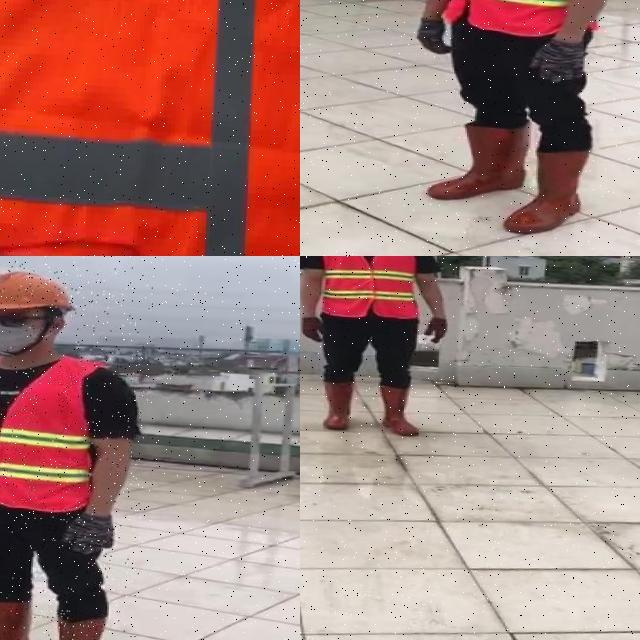boots: (426, 121, 532, 206), (503, 146, 589, 238), (374, 386, 420, 438), (317, 378, 358, 432), (43, 608, 106, 640), (0, 593, 38, 640)
helmet: (300, 256, 468, 440), (0, 266, 75, 318)
vest: (0, 0, 300, 256), (0, 353, 104, 516), (315, 256, 422, 321), (438, 0, 617, 38)
